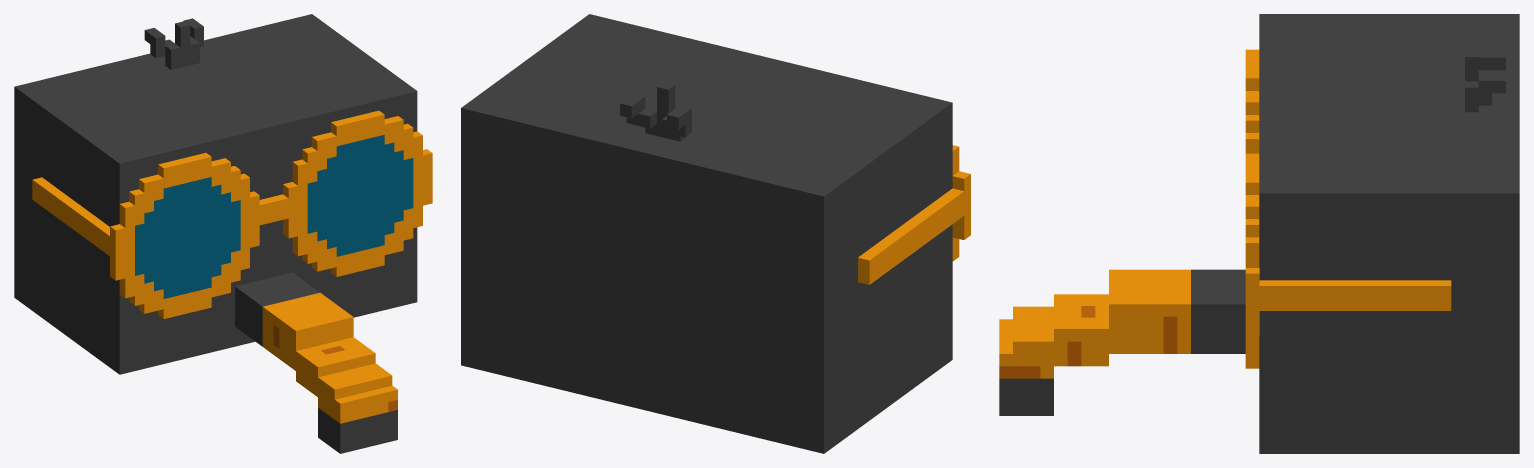
File: sova-1.obj
The picture shows the model from 3 angles, left to right: view 1: azimuth 30°, elevation 25°; view 2: azimuth 150°, elevation 25°; view 3: azimuth 270°, elevation 25°; orthographic projection. The views are drawn at different scales.
Size of the model in its own units: 3.3 by 2.8 by 3.8.
Materials: 1 (1 with a texture image).
